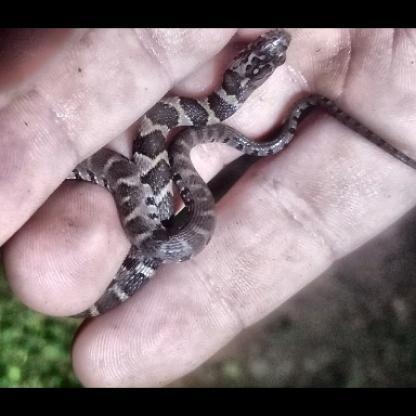Snake: (13, 58, 416, 374)
